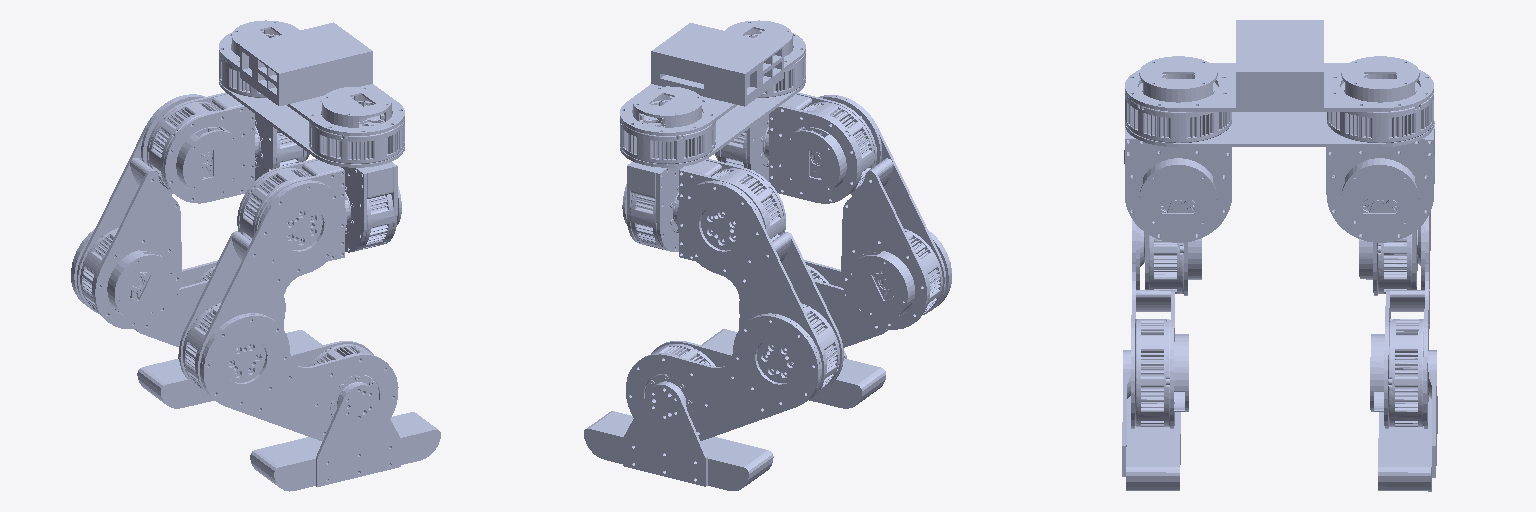
The robot description file, URDF, robot "openduckpro2":
<?xml version="1.0" encoding="utf-8"?>
<!-- This URDF was automatically created by SolidWorks to URDF Exporter! Originally created by Stephen Brawner (brawner@gmail.com)
     Commit Version: 1.6.0-4-g7f85cfe  Build Version: 1.6.7995.38578
     For more information, please see http://wiki.ros.org/sw_urdf_exporter -->
<robot
  name="openduckpro2">
  <link
    name="base_link">
    <inertial>
      <origin
        xyz="-0.00141080550252965 -0.000126717317661465 0.0266358869045288"
        rpy="0 0 0" />
      <mass
        value="1.38" />
      <inertia
        ixx="0.00179049"
        ixy="0.00000112"
        ixz="0.00001246"
        iyy="0.00039624"
        iyz="-0.00000082"
        izz="0.00187534" />
    </inertial>
    <visual>
      <origin
        xyz="0 0 0"
        rpy="0 0 0" />
      <geometry>
        <mesh
          filename="../meshes/base_link.STL" />
      </geometry>
      <material
        name="">
        <color
          rgba="0.792156862745098 0.819607843137255 0.933333333333333 1" />
      </material>
    </visual>
    <collision>
      <origin
        xyz="0 0 0"
        rpy="0 0 0" />
      <geometry>
        <mesh
          filename="../meshes/base_link.STL" />
      </geometry>
    </collision>
  </link>
  <link
    name="left_leg_yaw_link">
    <inertial>
      <origin
        xyz="-0.000168509325045557 0.000746362761765561 -0.0417397454040535"
        rpy="0 0 0" />
      <mass
        value="0.48200000" />
      <inertia
        ixx="0.00016435"
        ixy="-0.00000073"
        ixz="-0.00000093"
        iyy="0.00010408"
        iyz="-0.00000016"
        izz="0.00009129" />
    </inertial>
    <visual>
      <origin
        xyz="0 0 0"
        rpy="0 0 0" />
      <geometry>
        <mesh
          filename="../meshes/left_leg_yaw_link.STL" />
      </geometry>
      <material
        name="">
        <color
          rgba="0.792156862745098 0.819607843137255 0.933333333333333 1" />
      </material>
    </visual>
    <collision>
      <origin
        xyz="0 0 0"
        rpy="0 0 0" />
      <geometry>
        <mesh
          filename="../meshes/left_leg_yaw_link.STL" />
      </geometry>
    </collision>
  </link>
  <joint
    name="left_leg_yaw_joint"
    type="revolute">
    <origin
      xyz="0 0.075 -0.0005"
      rpy="0 0 1.5666" />
    <parent
      link="base_link" />
    <child
      link="left_leg_yaw_link" />
    <axis
      xyz="0 0 1" />
    <limit
      lower="-1"
      upper="1"
      effort="17"
      velocity="21" />
  </joint>
  <link
    name="left_leg_roll_link">
    <inertial>
      <origin
        xyz="0.000744845290186466 0.0001750947555509 -0.0417397453817851"
        rpy="0 0 0" />
      <mass
        value="0.48200000" />
      <inertia
        ixx="0.00009132"
        ixy="0.00000188"
        ixz="0.00000018"
        iyy="0.00016433"
        iyz="0.00000005"
        izz="0.00010407" />
    </inertial>
    <visual>
      <origin
        xyz="0 0 0"
        rpy="0 0 0" />
      <geometry>
        <mesh
          filename="../meshes/left_leg_roll_link.STL" />
      </geometry>
      <material
        name="">
        <color
          rgba="0.792156862745098 0.819607843137255 0.933333333333333 1" />
      </material>
    </visual>
    <collision>
      <origin
        xyz="0 0 0"
        rpy="0 0 0" />
      <geometry>
        <mesh
          filename="../meshes/left_leg_roll_link.STL" />
      </geometry>
    </collision>
  </link>
  <joint
    name="left_leg_roll_joint"
    type="revolute">
    <origin
      xyz="0.00014573 0.016499 -0.049"
      rpy="1.5708 0 -0.0088323" />
    <parent
      link="left_leg_yaw_link" />
    <child
      link="left_leg_roll_link" />
    <axis
      xyz="0 0 1" />
    <limit
      lower="-1"
      upper="1"
      effort="17"
      velocity="21" />
  </joint>
  <link
    name="left_leg_pitch_link">
    <inertial>
      <origin
        xyz="-0.0476473292738206 -0.0769900006807549 0.00428321304072461"
        rpy="0 0 0" />
      <mass
        value="0.59500000" />
      <inertia
        ixx="0.00041776"
        ixy="-0.00001490"
        ixz="-0.00016045"
        iyy="0.00056091"
        iyz="-0.00002449"
        izz="0.00018412" />
    </inertial>
    <visual>
      <origin
        xyz="0 0 0"
        rpy="0 0 0" />
      <geometry>
        <mesh
          filename="../meshes/left_leg_pitch_link.STL" />
      </geometry>
      <material
        name="">
        <color
          rgba="0.792156862745098 0.819607843137255 0.933333333333333 1" />
      </material>
    </visual>
    <collision>
      <origin
        xyz="0 0 0"
        rpy="0 0 0" />
      <geometry>
        <mesh
          filename="../meshes/left_leg_pitch_link.STL" />
      </geometry>
    </collision>
  </link>
  <joint
    name="left_leg_pitch_joint"
    type="revolute">
    <origin
      xyz="0.0165 0 -0.049"
      rpy="0 -1.5708 0" />
    <parent
      link="left_leg_roll_link" />
    <child
      link="left_leg_pitch_link" />
    <axis
      xyz="0 0 1" />
    <limit
      lower="-1"
      upper="1"
      effort="17"
      velocity="21" />
  </joint>
  <link
    name="left_knee_pitch_link">
    <inertial>
      <origin
        xyz="0.0769900006831681 -0.0476473292752241 0.00428321304107685"
        rpy="0 0 0" />
      <mass
        value="0.59500000" />
      <inertia
        ixx="0.00018488"
        ixy="0.00003146"
        ixz="0.00015989"
        iyy="0.00055974"
        iyz="-0.00001884"
        izz="0.00041817" />
    </inertial>
    <visual>
      <origin
        xyz="0 0 0"
        rpy="0 0 0" />
      <geometry>
        <mesh
          filename="../meshes/left_knee_pitch_link.STL" />
      </geometry>
      <material
        name="">
        <color
          rgba="0.792156862745098 0.819607843137255 0.933333333333333 1" />
      </material>
    </visual>
    <collision>
      <origin
        xyz="0 0 0"
        rpy="0 0 0" />
      <geometry>
        <mesh
          filename="../meshes/left_knee_pitch_link.STL" />
      </geometry>
    </collision>
  </link>
  <joint
    name="left_knee_pitch_joint"
    type="revolute">
    <origin
      xyz="-0.06 -0.10392 -0.0095"
      rpy="0 0 0" />
    <parent
      link="left_leg_pitch_link" />
    <child
      link="left_knee_pitch_link" />
    <axis
      xyz="0 0 1" />
    <limit
      lower="-1"
      upper="1"
      effort="17"
      velocity="21" />
  </joint>
  <link
    name="left_ankle_pitch_link">
    <inertial>
      <origin
        xyz="-0.000135018905672298 -0.0514949406389236 0.0148389070782686"
        rpy="0 0 0" />
      <mass
        value="0.10200000" />
      <inertia
        ixx="0.00005446"
        ixy="0.00000355"
        ixz="-0.00000017"
        iyy="0.00033166"
        iyz="-0.00000821"
        izz="0.00033135" />
    </inertial>
    <visual>
      <origin
        xyz="0 0 0"
        rpy="0 0 0" />
      <geometry>
        <mesh
          filename="../meshes/left_ankle_pitch_link.STL" />
      </geometry>
      <material
        name="">
        <color
          rgba="0.792156862745098 0.819607843137255 0.933333333333333 1" />
      </material>
    </visual>
    <collision>
      <origin
        xyz="0 0 0"
        rpy="0 0 0" />
      <geometry>
        <mesh
          filename="../meshes/left_ankle_pitch_link.STL" />
      </geometry>
    </collision>
  </link>
  <joint
    name="left_ankle_pitch_joint"
    type="revolute">
    <origin
      xyz="0.10392 -0.06 -0.0095"
      rpy="0 0 0" />
    <parent
      link="left_knee_pitch_link" />
    <child
      link="left_ankle_pitch_link" />
    <axis
      xyz="0 0 1" />
    <limit
      lower="-1"
      upper="1"
      effort="17"
      velocity="21" />
  </joint>
  <link
    name="right_leg_yaw_link">
    <inertial>
      <origin
        xyz="-0.000175392332125324 0.000744775332985191 -0.0417397454016966"
        rpy="0 0 0" />
      <mass
        value=" 0.48200000" />
      <inertia
        ixx="0.00016436"
        ixy="-0.00000018"
        ixz="-0.00000093"
        iyy="0.00010407"
        iyz="-0.00000017"
        izz="0.00009129" />
    </inertial>
    <visual>
      <origin
        xyz="0 0 0"
        rpy="0 0 0" />
      <geometry>
        <mesh
          filename="../meshes/right_leg_yaw_link.STL" />
      </geometry>
      <material
        name="">
        <color
          rgba="0.792156862745098 0.819607843137255 0.933333333333333 1" />
      </material>
    </visual>
    <collision>
      <origin
        xyz="0 0 0"
        rpy="0 0 0" />
      <geometry>
        <mesh
          filename="../meshes/right_leg_yaw_link.STL" />
      </geometry>
    </collision>
  </link>
  <joint
    name="right_leg_yaw_joint"
    type="revolute">
    <origin
      xyz="0 -0.075 -0.0005"
      rpy="0 0 1.5666" />
    <parent
      link="base_link" />
    <child
      link="right_leg_yaw_link" />
    <axis
      xyz="0 0 1" />
    <limit
      lower="-1"
      upper="1"
      effort="17"
      velocity="21" />
  </joint>
  <link
    name="right_leg_roll_link">
    <inertial>
      <origin
        xyz="-0.000744845341959371 -0.000175094773280884 -0.0417397454013599"
        rpy="0 0 0" />
      <mass
        value="0.48200000" />
      <inertia
        ixx="0.00009128"
        ixy="-0.00000065"
        ixz="-0.00000018"
        iyy="0.00016437"
        iyz="0.00000005"
        izz="0.00010407" />
    </inertial>
    <visual>
      <origin
        xyz="0 0 0"
        rpy="0 0 0" />
      <geometry>
        <mesh
          filename="../meshes/right_leg_roll_link.STL" />
      </geometry>
      <material
        name="">
        <color
          rgba="0.792156862745098 0.819607843137255 0.933333333333333 1" />
      </material>
    </visual>
    <collision>
      <origin
        xyz="0 0 0"
        rpy="0 0 0" />
      <geometry>
        <mesh
          filename="../meshes/right_leg_roll_link.STL" />
      </geometry>
    </collision>
  </link>
  <joint
    name="right_leg_roll_joint"
    type="revolute">
    <origin
      xyz="0 0.0165 -0.049"
      rpy="1.5708 0 0.00039951" />
    <parent
      link="right_leg_yaw_link" />
    <child
      link="right_leg_roll_link" />
    <axis
      xyz="0 0 1" />
    <limit
      lower="-1"
      upper="1"
      effort="17"
      velocity="21" />
  </joint>
  <link
    name="right_leg_pitch_link">
    <inertial>
      <origin
        xyz="0.0477878331195739 -0.0772345348408712 0.00428321303780235"
        rpy="0 0 0" />
      <mass
        value="0.59500000" />
      <inertia
        ixx="0.00042079"
        ixy="0.00001740"
        ixz="-0.00016130"
        iyy="0.00056351"
        iyz="0.00002736"
        izz="0.00018478" />
    </inertial>
    <visual>
      <origin
        xyz="0 0 0"
        rpy="0 0 0" />
      <geometry>
        <mesh
          filename="../meshes/right_leg_pitch_link.STL" />
      </geometry>
      <material
        name="">
        <color
          rgba="0.792156862745098 0.819607843137255 0.933333333333333 1" />
      </material>
    </visual>
    <collision>
      <origin
        xyz="0 0 0"
        rpy="0 0 0" />
      <geometry>
        <mesh
          filename="../meshes/right_leg_pitch_link.STL" />
      </geometry>
    </collision>
  </link>
  <joint
    name="right_leg_pitch_joint"
    type="revolute">
    <origin
      xyz="-0.0165 0 -0.049"
      rpy="-1.5774 1.5708 -1.5775" />
    <parent
      link="right_leg_roll_link" />
    <child
      link="right_leg_pitch_link" />
    <axis
      xyz="0 0 1" />
    <limit
      lower="-1"
      upper="1"
      effort="17"
      velocity="21" />
  </joint>
  <link
    name="right_knee_pitch_link">
    <inertial>
      <origin
        xyz="-0.0772345348406682 -0.0477878331194861 0.00428321303775761"
        rpy="0 0 0" />
      <mass
        value="0.59500000" />
      <inertia
        ixx="0.00018458"
        ixy="-0.00002533"
        ixz="0.00016147"
        iyy="0.00056383"
        iyz="0.00001625"
        izz="0.00042066" />
    </inertial>
    <visual>
      <origin
        xyz="0 0 0"
        rpy="0 0 0" />
      <geometry>
        <mesh
          filename="../meshes/right_knee_pitch_link.STL" />
      </geometry>
      <material
        name="">
        <color
          rgba="0.792156862745098 0.819607843137255 0.933333333333333 1" />
      </material>
    </visual>
    <collision>
      <origin
        xyz="0 0 0"
        rpy="0 0 0" />
      <geometry>
        <mesh
          filename="../meshes/right_knee_pitch_link.STL" />
      </geometry>
    </collision>
  </link>
  <joint
    name="right_knee_pitch_joint"
    type="revolute">
    <origin
      xyz="0.06 -0.10392 -0.0095"
      rpy="0 0 0" />
    <parent
      link="right_leg_pitch_link" />
    <child
      link="right_knee_pitch_link" />
    <axis
      xyz="0 0 1" />
    <limit
      lower="-1"
      upper="1"
      effort="17"
      velocity="21" />
  </joint>
  <link
    name="right_ankle_pitch_link">
    <inertial>
      <origin
        xyz="0.000135018908126398 0.0514949406305106 0.0148389070726481"
        rpy="0 0 0" />
      <mass
        value="0.10200000" />
      <inertia
        ixx="0.00005442"
        ixy="0.00000099"
        ixz="-0.00000009"
        iyy="0.00033171"
        iyz="0.00000822"
        izz="0.00033135" />
    </inertial>
    <visual>
      <origin
        xyz="0 0 0"
        rpy="0 0 0" />
      <geometry>
        <mesh
          filename="../meshes/right_ankle_pitch_link.STL" />
      </geometry>
      <material
        name="">
        <color
          rgba="0.792156862745098 0.819607843137255 0.933333333333333 1" />
      </material>
    </visual>
    <collision>
      <origin
        xyz="0 0 0"
        rpy="0 0 0" />
      <geometry>
        <mesh
          filename="../meshes/right_ankle_pitch_link.STL" />
      </geometry>
    </collision>
  </link>
  <joint
    name="right_ankle_pitch_joint"
    type="revolute">
    <origin
      xyz="-0.10392 -0.06 -0.0095"
      rpy="0 0 -3.1416" />
    <parent
      link="right_knee_pitch_link" />
    <child
      link="right_ankle_pitch_link" />
    <axis
      xyz="0 0 1" />
    <limit
      lower="-1"
      upper="1"
      effort="17"
      velocity="21" />
  </joint>
</robot>

--- What the picture shows (computed from the rendered views, not written in the file) ---
Views: 3 orthographic renders of the robot side by side, from view 1: azimuth 30°, elevation 25°; view 2: azimuth 150°, elevation 25°; view 3: azimuth 270°, elevation 25°.
Robot: openduckpro2 — 11 links, 10 joints (10 revolute); root link base_link; default pose: every joint at zero.
Links seen in each view (by area): view 1: base_link, right_knee_pitch_link, right_leg_pitch_link, left_leg_pitch_link, right_ankle_pitch_link, left_leg_roll_link, right_leg_yaw_link, right_leg_roll_link, left_knee_pitch_link, left_ankle_pitch_link, left_leg_yaw_link; view 2: base_link, left_knee_pitch_link, left_leg_pitch_link, right_leg_pitch_link, left_ankle_pitch_link, right_leg_roll_link, left_leg_yaw_link, left_leg_roll_link, right_knee_pitch_link, right_ankle_pitch_link, right_leg_yaw_link; view 3: base_link, left_leg_yaw_link, right_leg_yaw_link, left_knee_pitch_link, right_knee_pitch_link, left_ankle_pitch_link, right_ankle_pitch_link, left_leg_pitch_link, right_leg_pitch_link.
Boxes of the visible links, x1,y1,x2,y2 form: base_link: (219,20,404,167); right_knee_pitch_link: (200,313,398,441); right_leg_pitch_link: (179,180,346,396); left_leg_pitch_link: (77,94,204,328); right_ankle_pitch_link: (250,382,440,491); left_leg_roll_link: (147,92,258,203); right_leg_yaw_link: (341,162,401,252); right_leg_roll_link: (237,159,349,261); left_knee_pitch_link: (71,229,285,346); left_ankle_pitch_link: (137,330,322,408); left_leg_yaw_link: (255,114,309,180); base_link: (620,20,805,167); left_knee_pitch_link: (626,313,821,440); left_leg_pitch_link: (677,180,843,396); right_leg_pitch_link: (819,95,945,329); left_ankle_pitch_link: (584,382,773,490); right_leg_roll_link: (765,92,876,203); left_leg_yaw_link: (622,158,708,251); left_leg_roll_link: (674,159,785,260); right_knee_pitch_link: (739,230,951,347); right_ankle_pitch_link: (702,329,885,408); right_leg_yaw_link: (715,114,768,181); base_link: (1125,20,1433,146); left_leg_yaw_link: (1326,121,1434,242); right_leg_yaw_link: (1124,128,1231,242); left_knee_pitch_link: (1370,212,1430,428); right_knee_pitch_link: (1131,219,1188,428); left_ankle_pitch_link: (1378,350,1437,491); right_ankle_pitch_link: (1122,350,1180,490); left_leg_pitch_link: (1359,230,1417,295); right_leg_pitch_link: (1144,232,1201,295).
Bounding box of the posed robot: 0.2258 × 0.2339 × 0.3424 m (x, y, z).
Meshes: 11 distinct files referenced, 11 mesh visuals loaded (11 binary STL).
